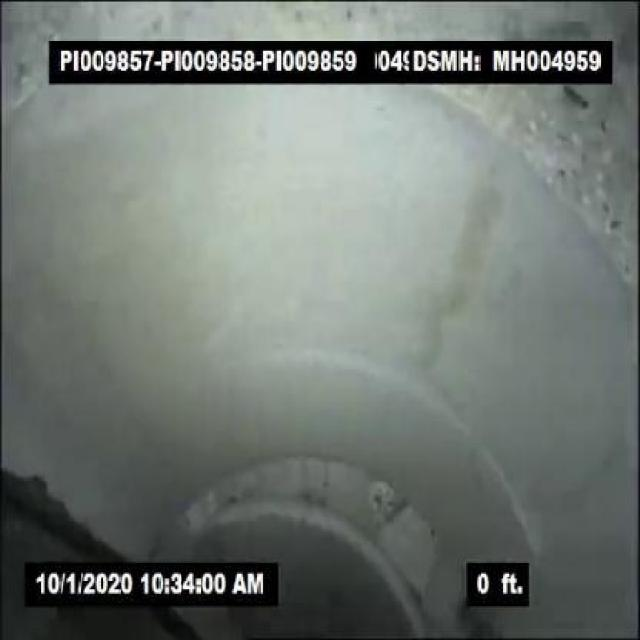Joint offset: (198, 451, 398, 532)
